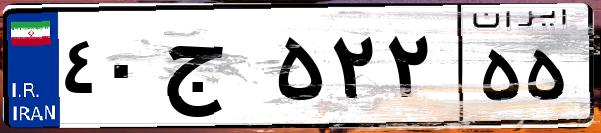0: (110, 28, 158, 98)
2: (385, 28, 445, 110), (330, 28, 385, 110)
4: (57, 26, 110, 100)
5: (270, 28, 330, 110), (475, 38, 525, 113), (525, 38, 570, 115)
ج: (158, 20, 270, 120)
